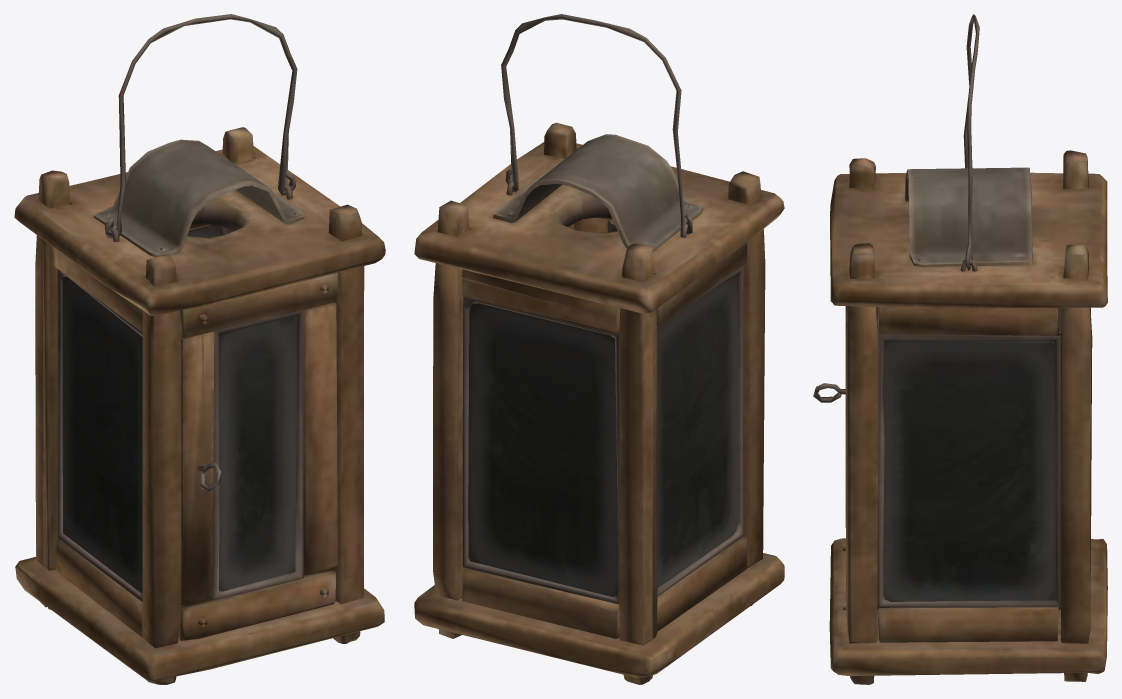
File: wooden_lantern_01.glb
The picture shows the model from 3 angles, left to right: view 1: azimuth 30°, elevation 25°; view 2: azimuth 150°, elevation 25°; view 3: azimuth 270°, elevation 25°; orthographic projection.
Visible parts, largest first — view 1: wooden_lantern_01; view 2: wooden_lantern_01; view 3: wooden_lantern_01.
Part boxes in pixels (x1=…): wooden_lantern_01: x1=14, y1=14, x2=385, y2=684; wooden_lantern_01: x1=414, y1=14, x2=784, y2=684; wooden_lantern_01: x1=813, y1=14, x2=1107, y2=684.
Bounding box in the file's own units: 0.221 × 0.5296 × 0.2337.
2 materials, 2 textured.
